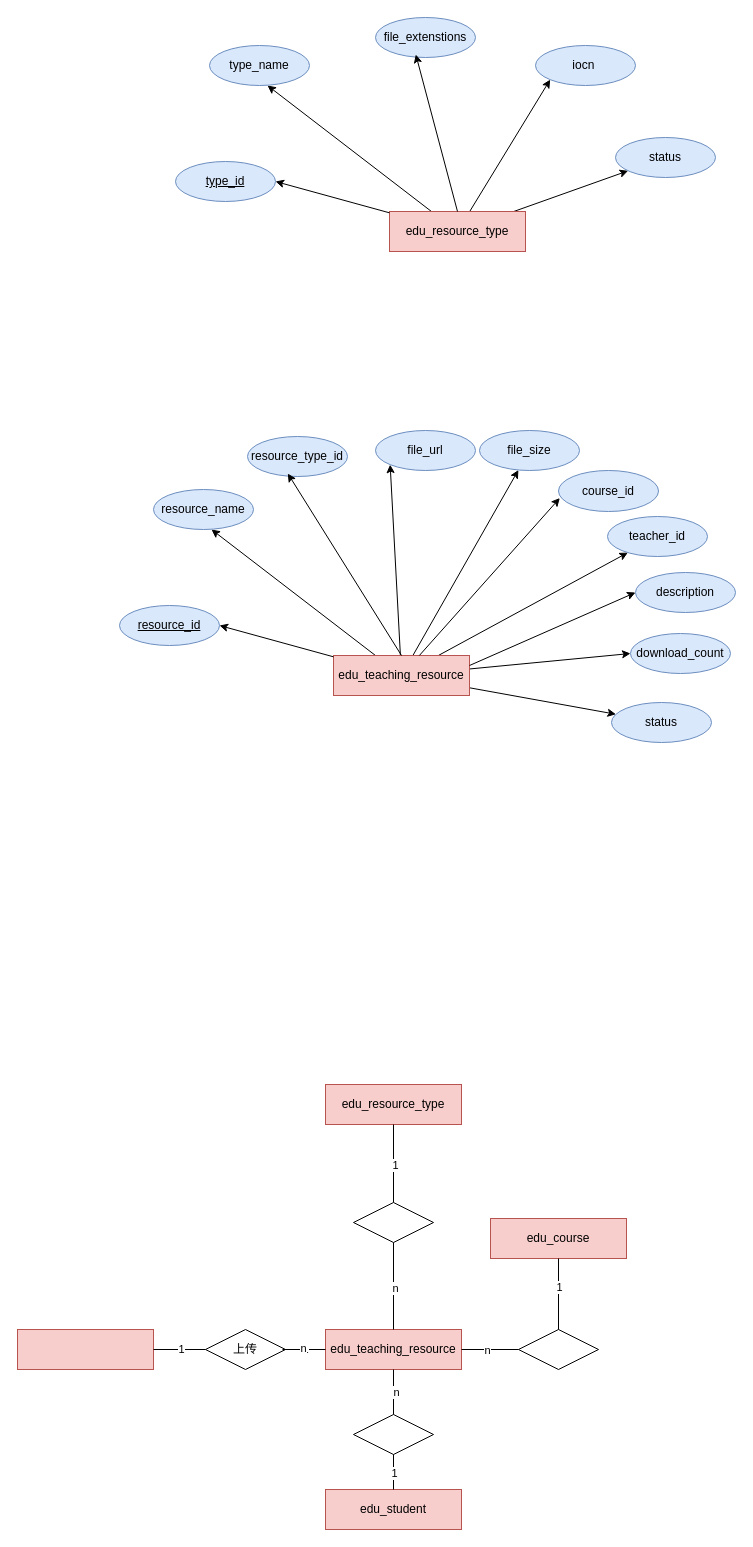
The diagram is 753 pixels wide and 1547 high, and some of its shapes have lost their labels. Here are the shapes that lost their labels. From the top down, the box of each, then its label:
(352, 1202, 434, 1242): 拥有
(16, 1328, 154, 1370): edu_teacher
(518, 1328, 598, 1370): 包含
(352, 1414, 434, 1454): 下载
